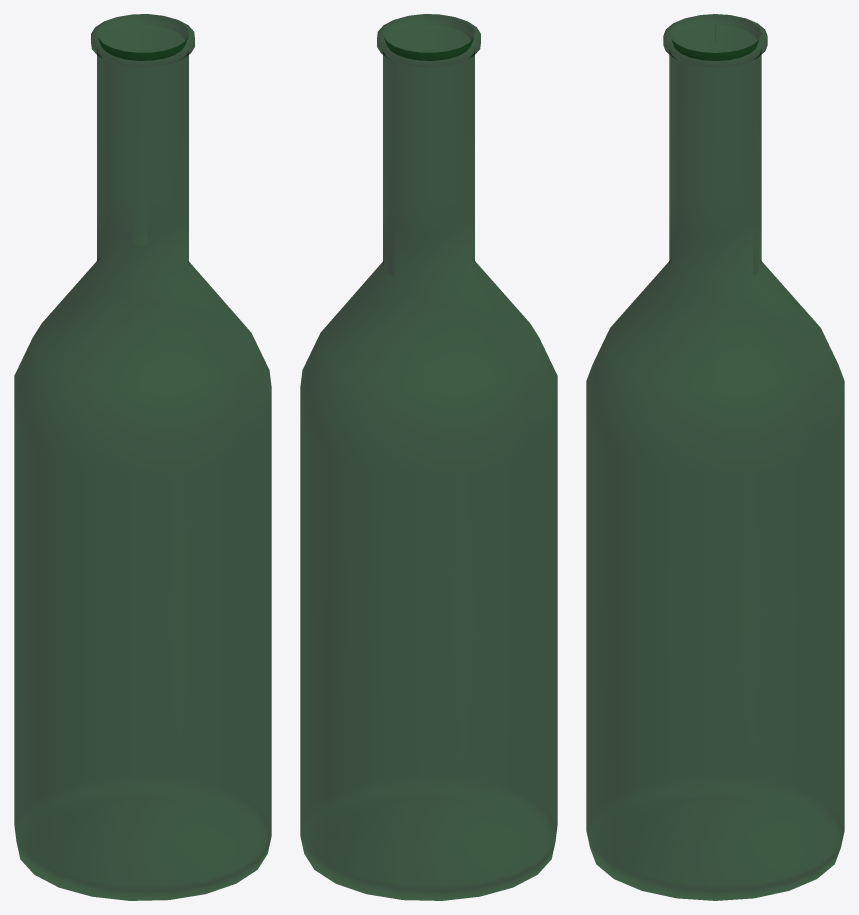
File: Flasche_Grün_Deckel.fbx
The picture shows the model from 3 angles, left to right: view 1: azimuth 30°, elevation 25°; view 2: azimuth 150°, elevation 25°; view 3: azimuth 270°, elevation 25°; orthographic projection.
Parts seen in each view (by area): view 1: pCylinder1; view 2: pCylinder1; view 3: pCylinder1.
Boxes of the visible parts, x1,y1,x2,y2 form: pCylinder1: (14, 14, 271, 900); pCylinder1: (300, 14, 557, 900); pCylinder1: (586, 14, 844, 900).
Size of the model in its own units: 20.65 by 71.78 by 20.65.
